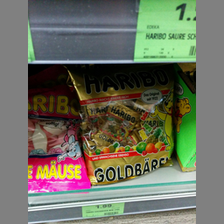candy: (70, 71, 176, 184), (28, 94, 92, 192)
